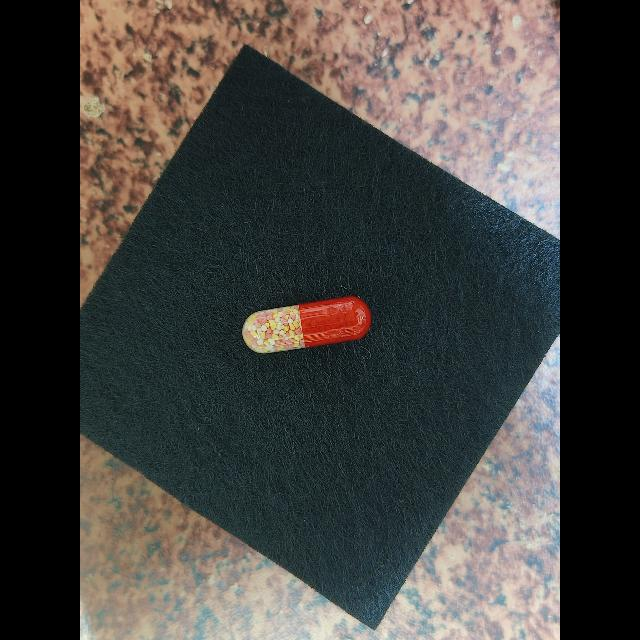Intact Capsule: (242, 296, 371, 353)
